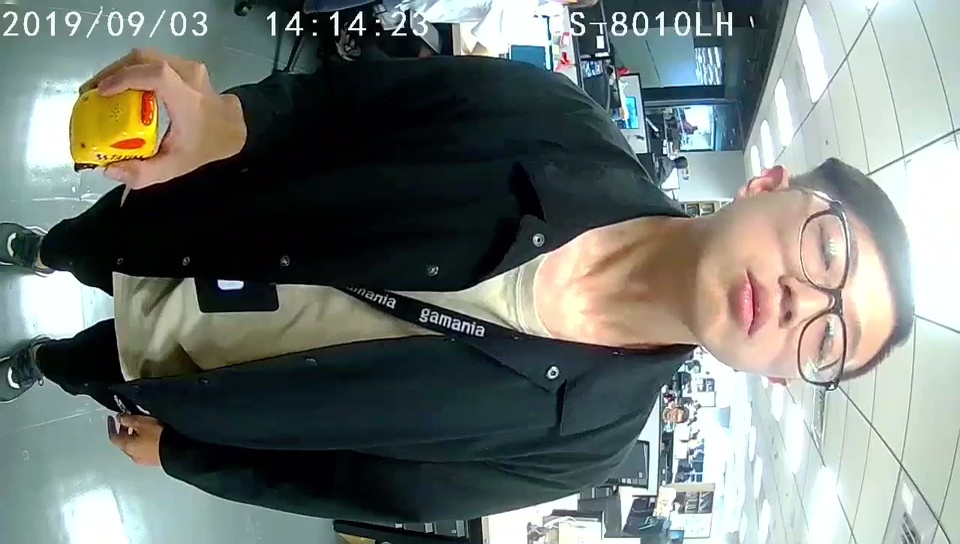car: (70, 88, 157, 163)
